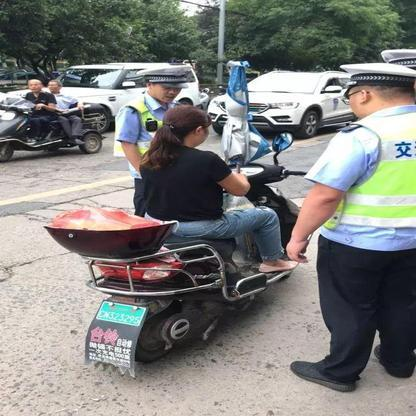target: (40, 107, 311, 363)
